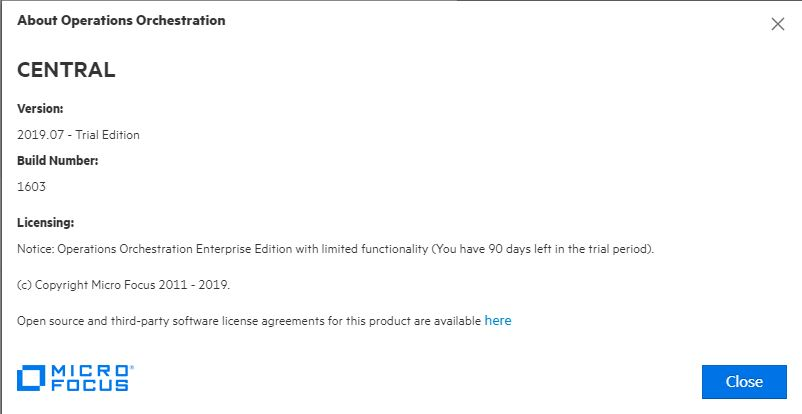button: (692, 361, 793, 403)
